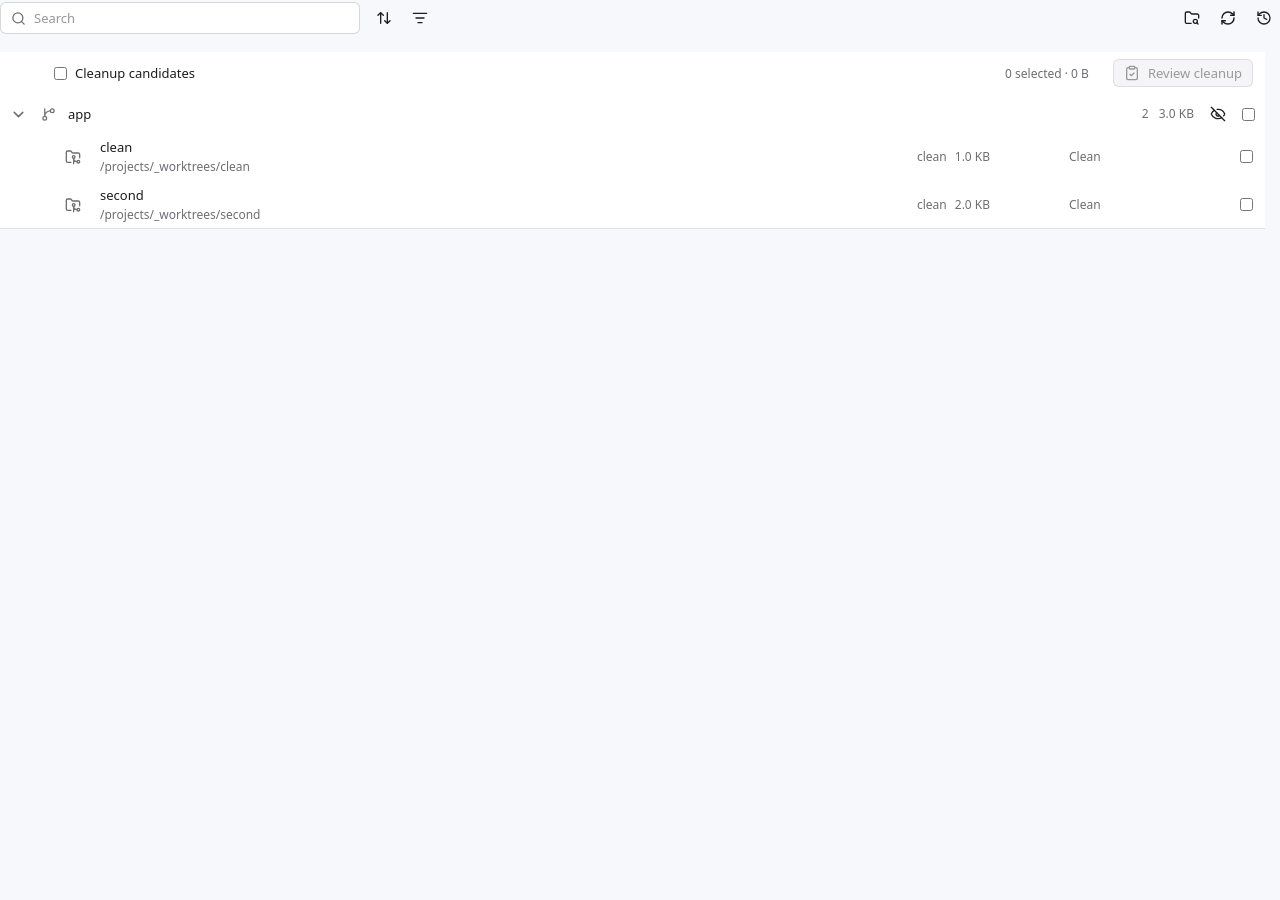
Test case: WorktreeDialog › counts only verified removals in batch totals and preserves failed rows for review
Click the checkbox named "Select all eligible Worktrees": (1248, 114) [1242,108,1255,120]
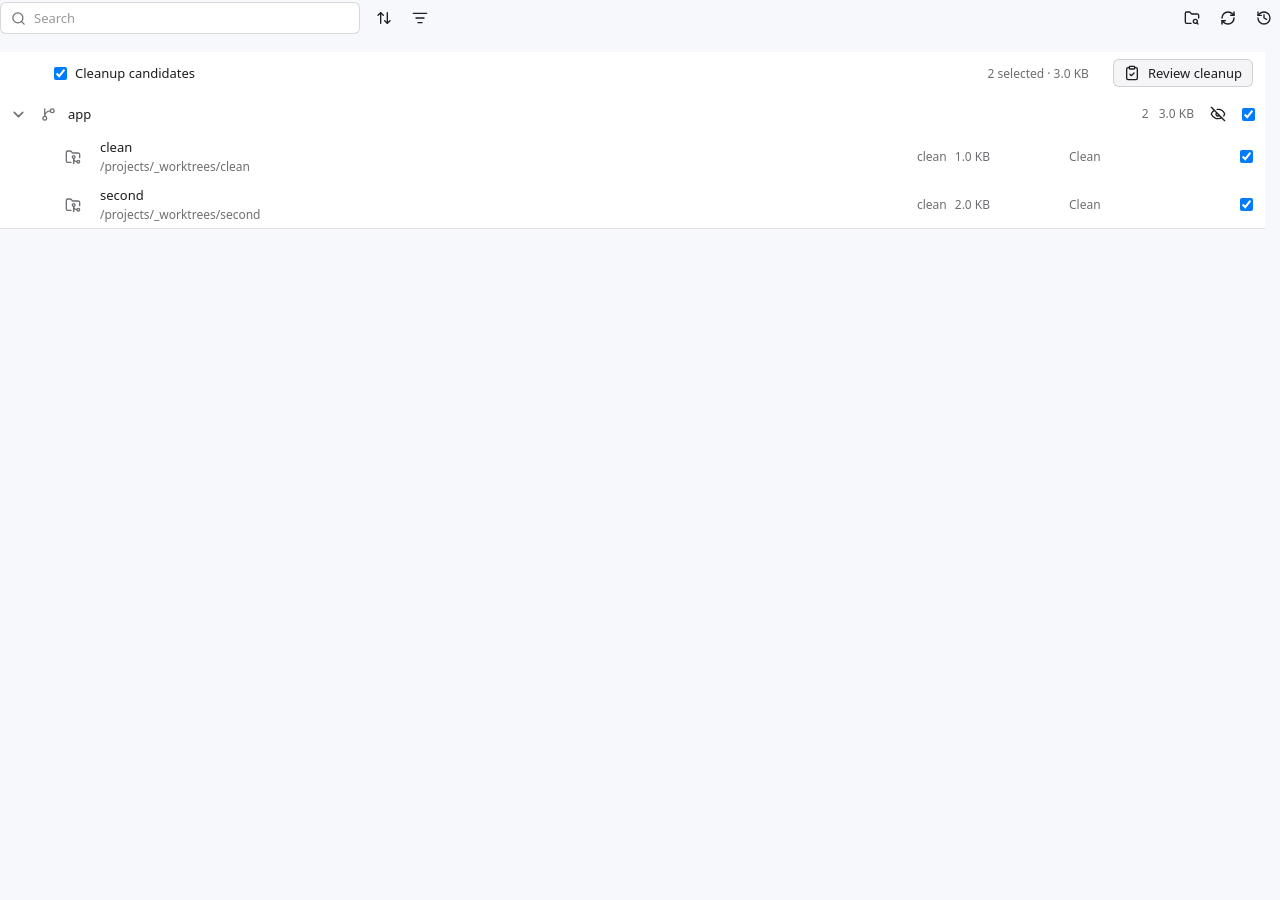
Click the button with aria-label "Review cleanup (2)": (1183, 73) [1113,59,1253,87]
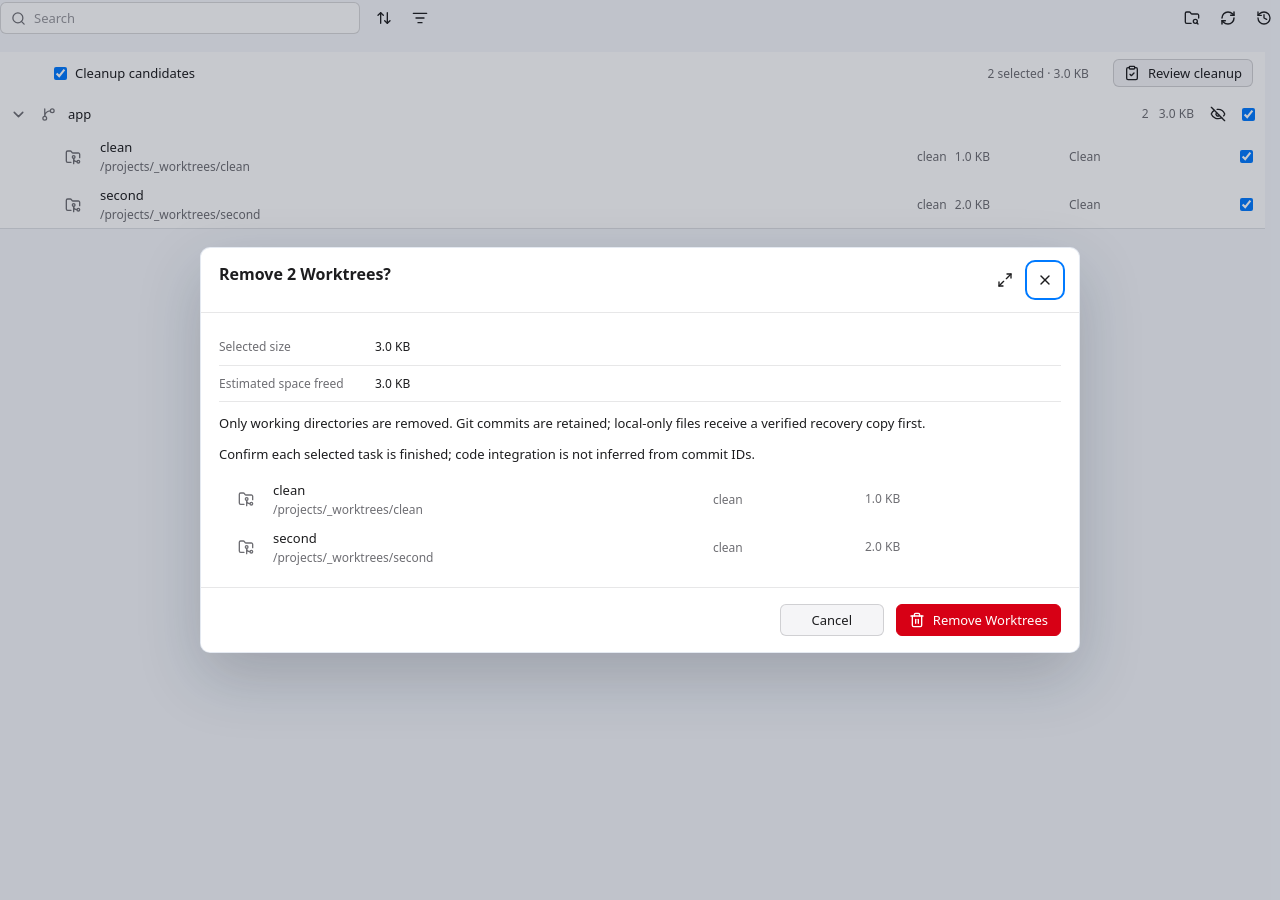
Click the button "Remove Worktrees": (978, 620) [896,604,1061,636]
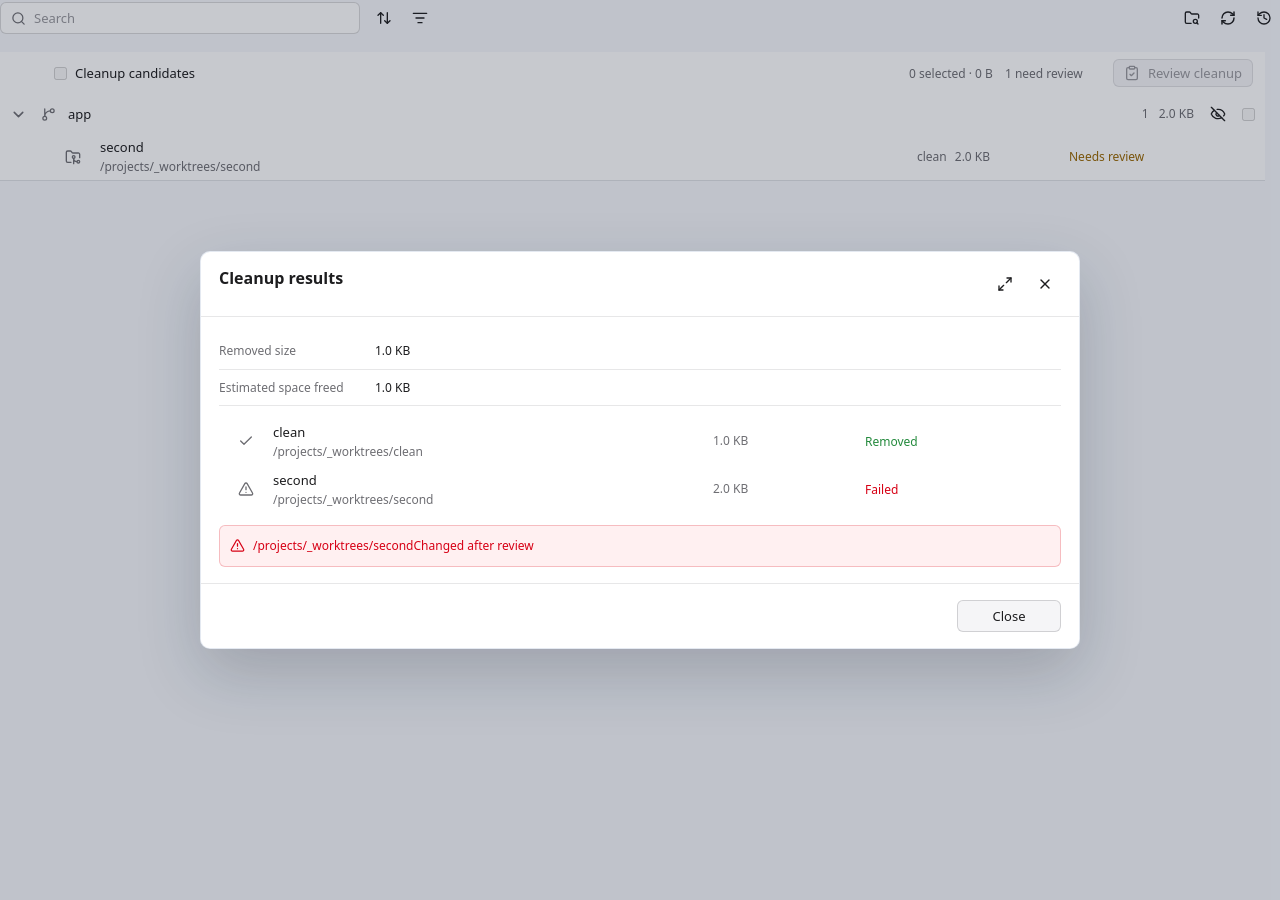
Check: the text "Removed" is shown, box [865,433,918,450]
Check: the element with class "ui-detail-list" reads "Removed size 1.0 KB Estimated space freed 1.0 KB", box [219,333,1061,406]
Click the button "Close": (1009, 616) [957,600,1061,632]
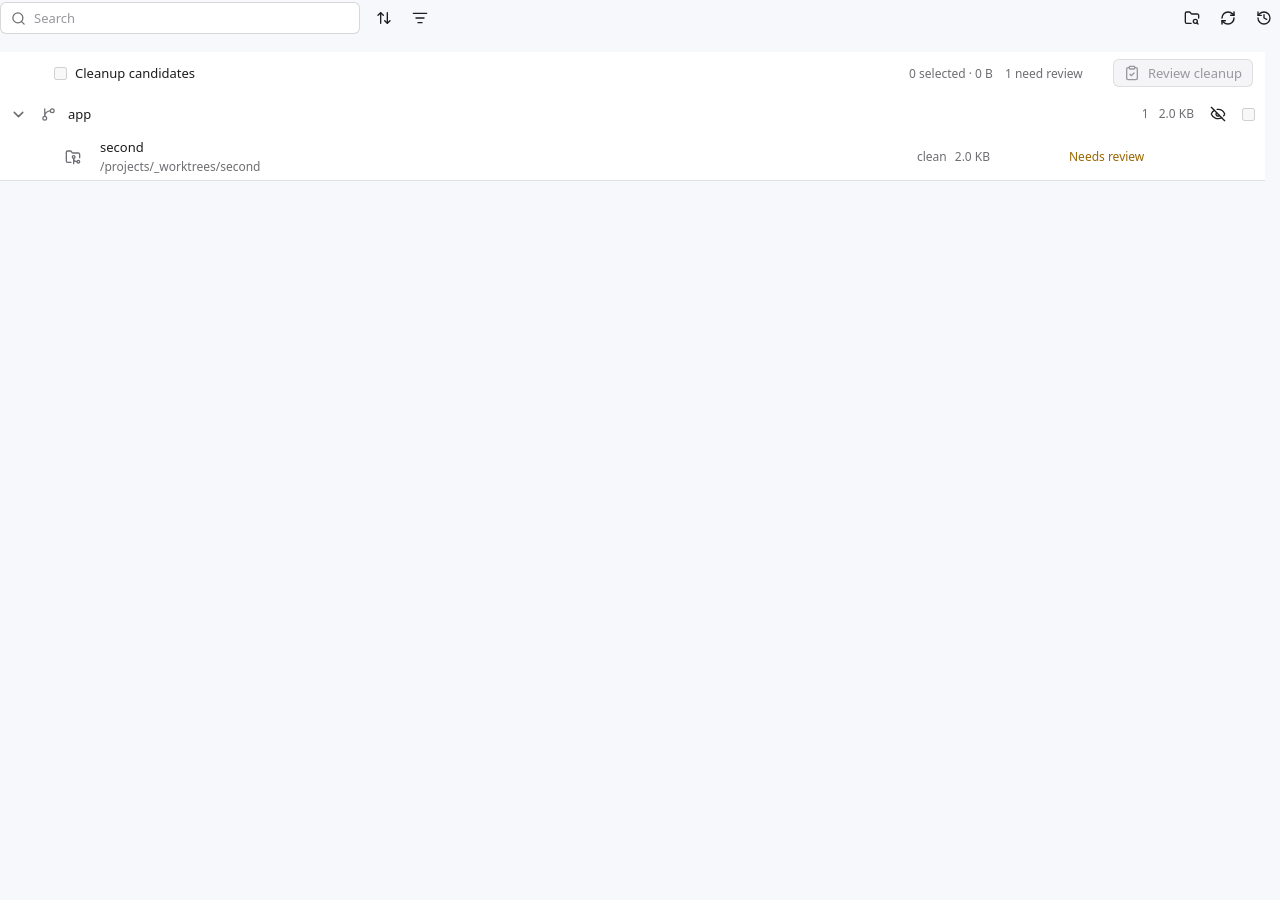
Check: the text "/projects/_worktrees/second" is shown, box [100,158,260,175]
Check: the checkbox named "Select all eligible Worktrees" is disabled, box [1242,108,1255,120]
Check: the text "/projects/_worktrees/clean" is gone
